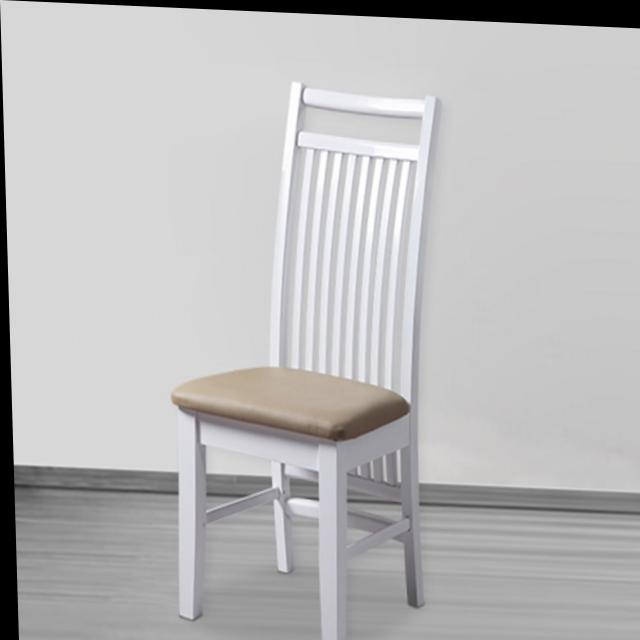Chair: (160, 74, 451, 640)
